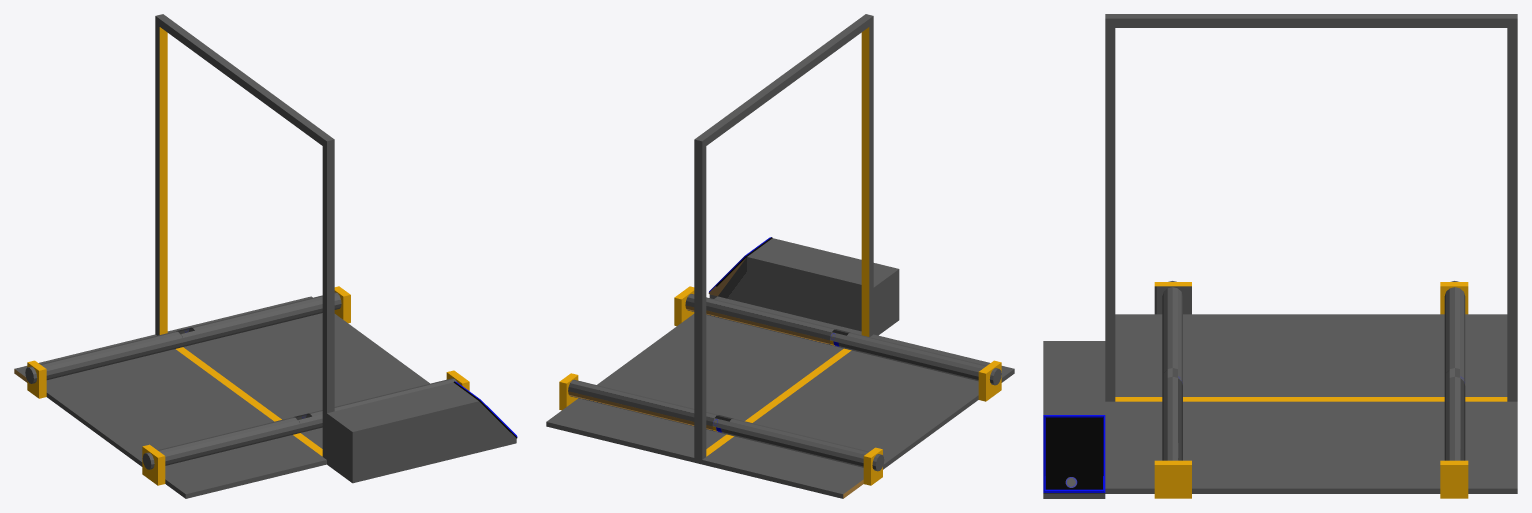
Rendered from frame.obj.
3 renders of one model, left to right at view 1: azimuth 30°, elevation 25°; view 2: azimuth 150°, elevation 25°; view 3: azimuth 270°, elevation 25°, orthographic. The views are drawn at different scales.
Parts seen in each view (by area): view 1: Plane; view 2: Plane; view 3: Plane.
Part boxes in pixels (bbox=[...]): Plane: bbox=[14, 14, 517, 498]; Plane: bbox=[546, 14, 1014, 498]; Plane: bbox=[1043, 14, 1517, 498].
Size of the model in its own units: 21.34 by 20.8 by 23.
Materials: 1 (1 with a texture image).
